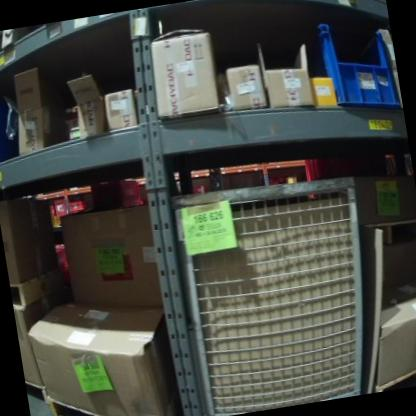pallet: (45, 377, 175, 416), (8, 267, 68, 309), (371, 356, 416, 391), (25, 378, 47, 404)
small_load_carrier: (296, 9, 400, 122), (0, 93, 29, 167), (88, 178, 139, 208), (104, 199, 145, 211), (67, 193, 90, 211), (53, 243, 68, 269), (54, 198, 69, 217), (47, 202, 56, 213)
stillage: (167, 159, 394, 416)
